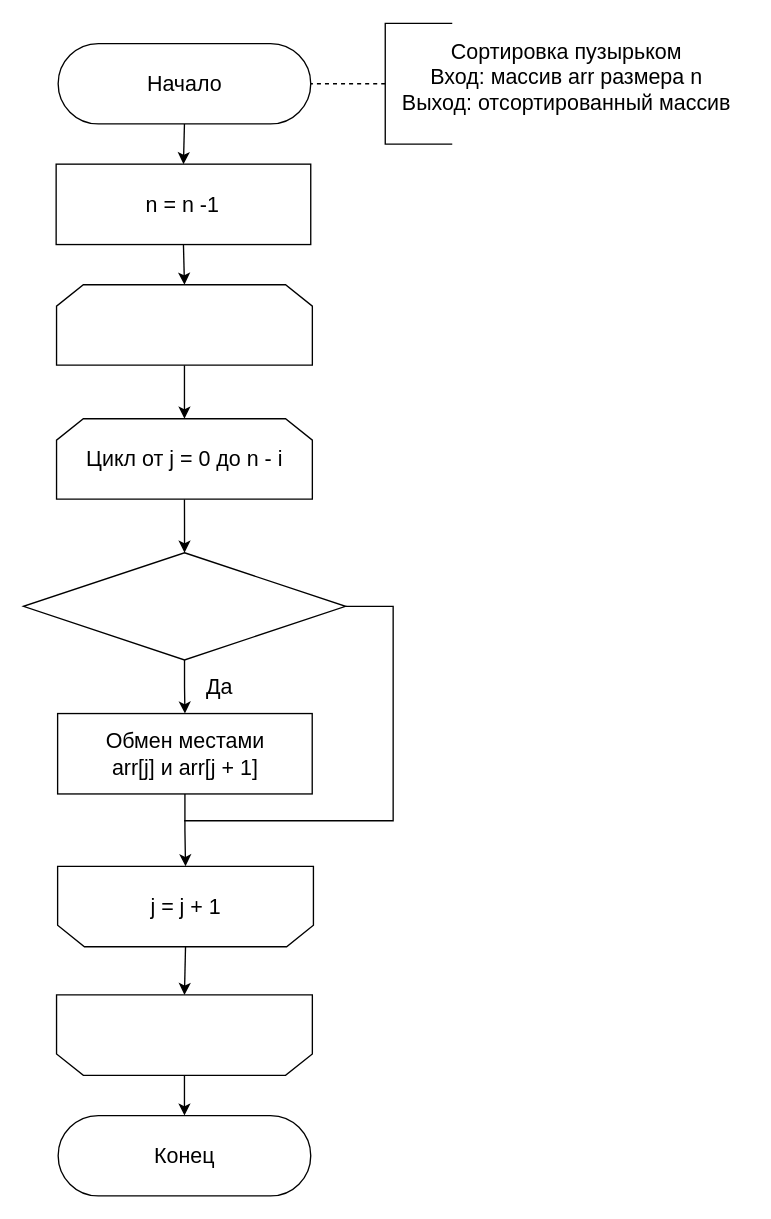
Some shapes in this 771 by 1219 pixel diagram are drawn without their labels. Each missing label, with the centre of its shape:
"arr[j] > arr[j + 1]" belongs at (184,605).
"i = i + 1" belongs at (183,1034).
"Цикл от i = 0 до n" belongs at (183,324).
